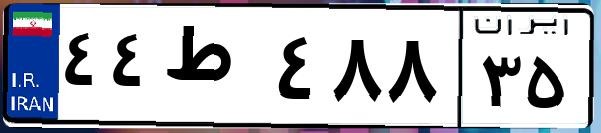3: (475, 38, 525, 113)
4: (270, 28, 330, 110), (57, 26, 110, 100), (110, 28, 158, 98)
5: (525, 38, 570, 115)
8: (385, 28, 445, 110), (330, 28, 385, 110)
ط: (158, 20, 270, 120)
